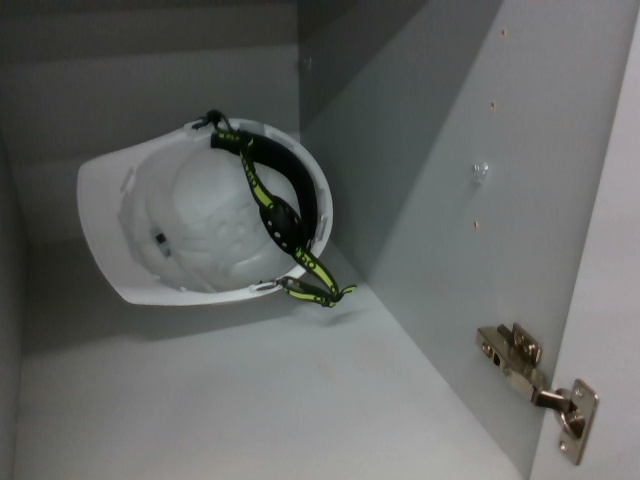helmet: (71, 108, 339, 312)
